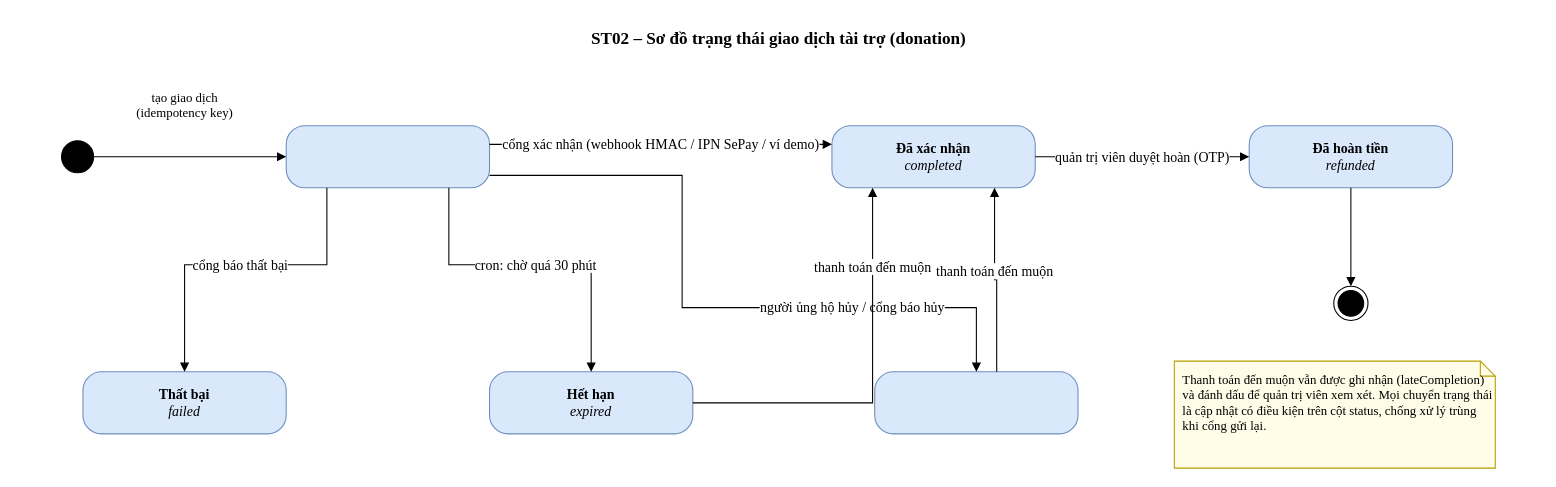
Image size: 1556x487. Some labels were removed from this diagram. The shapes that lost their labels are listed below. From the top down, each one's centre as x and y in pixels, then its label:
At (387,156): "Chờ thanh toán pending".
At (976,402): "Đã hủy cancelled".
